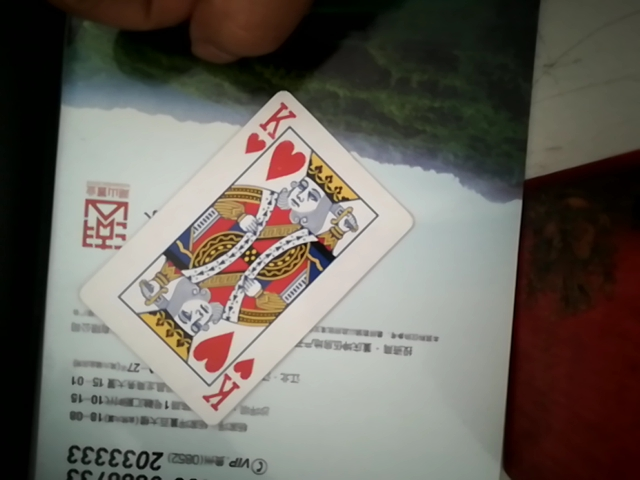hx k: (60, 88, 418, 417)
